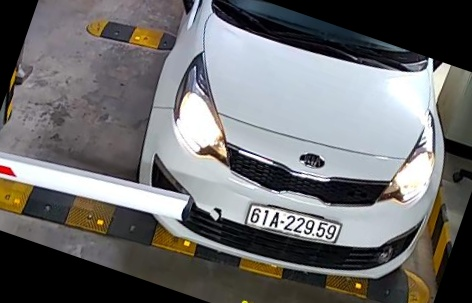plate: (246, 198, 340, 250)
